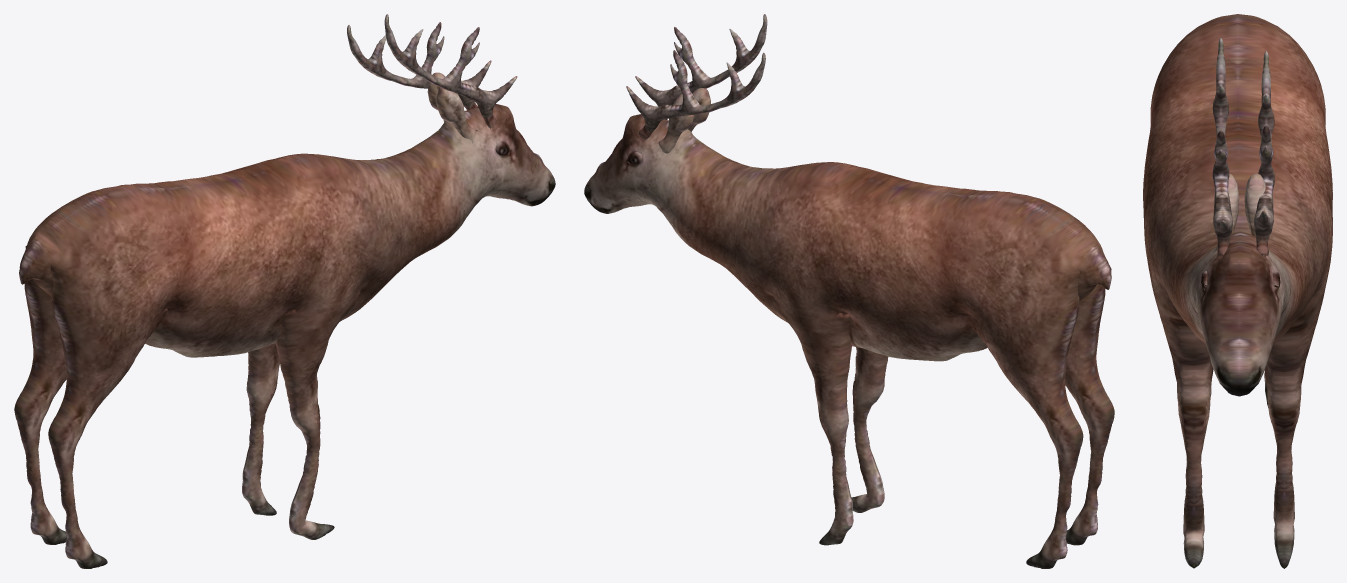
The model's file is red-deer.glb.
3 views of the same model, side by side, from view 1: azimuth 30°, elevation 25°; view 2: azimuth 150°, elevation 25°; view 3: azimuth 270°, elevation 25° (orthographic). The views are drawn at different scales.
Parts seen in each view (by area): view 1: mesh_0; view 2: mesh_0; view 3: mesh_0.
Part boxes in pixels (<box>): mesh_0: <box>14,14,555,568</box>; mesh_0: <box>584,14,1114,568</box>; mesh_0: <box>1143,14,1332,568</box>.
Bounding box in the file's own units: 8.36 × 7.47 × 2.22.
1 material, 1 textured.
